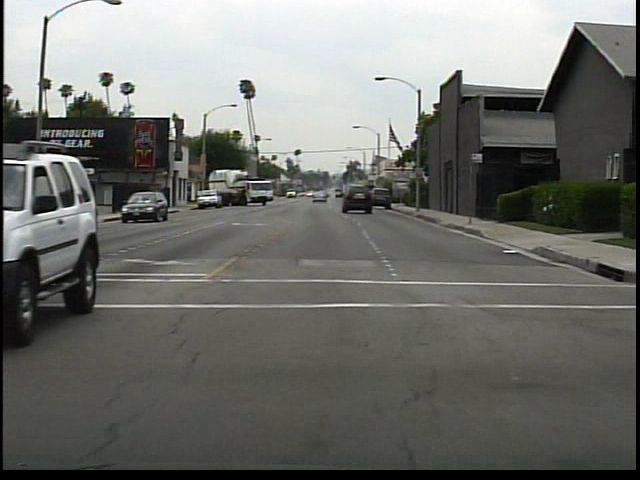person: (62, 181, 84, 223)
